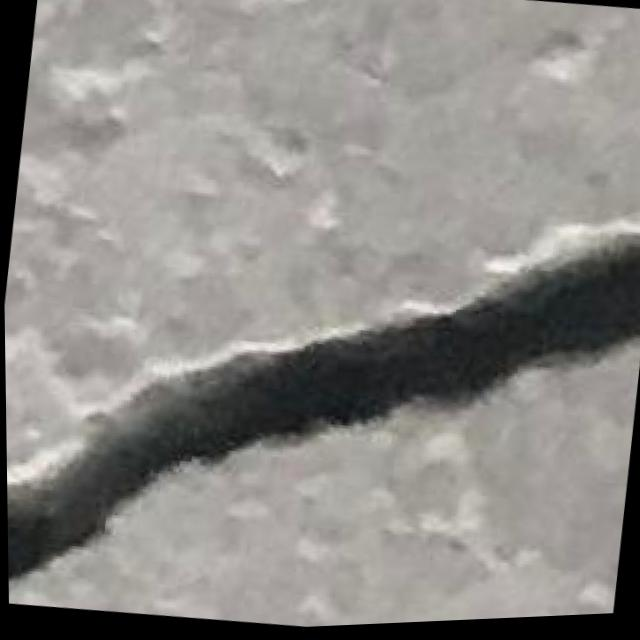Crack: (2, 157, 640, 640)
